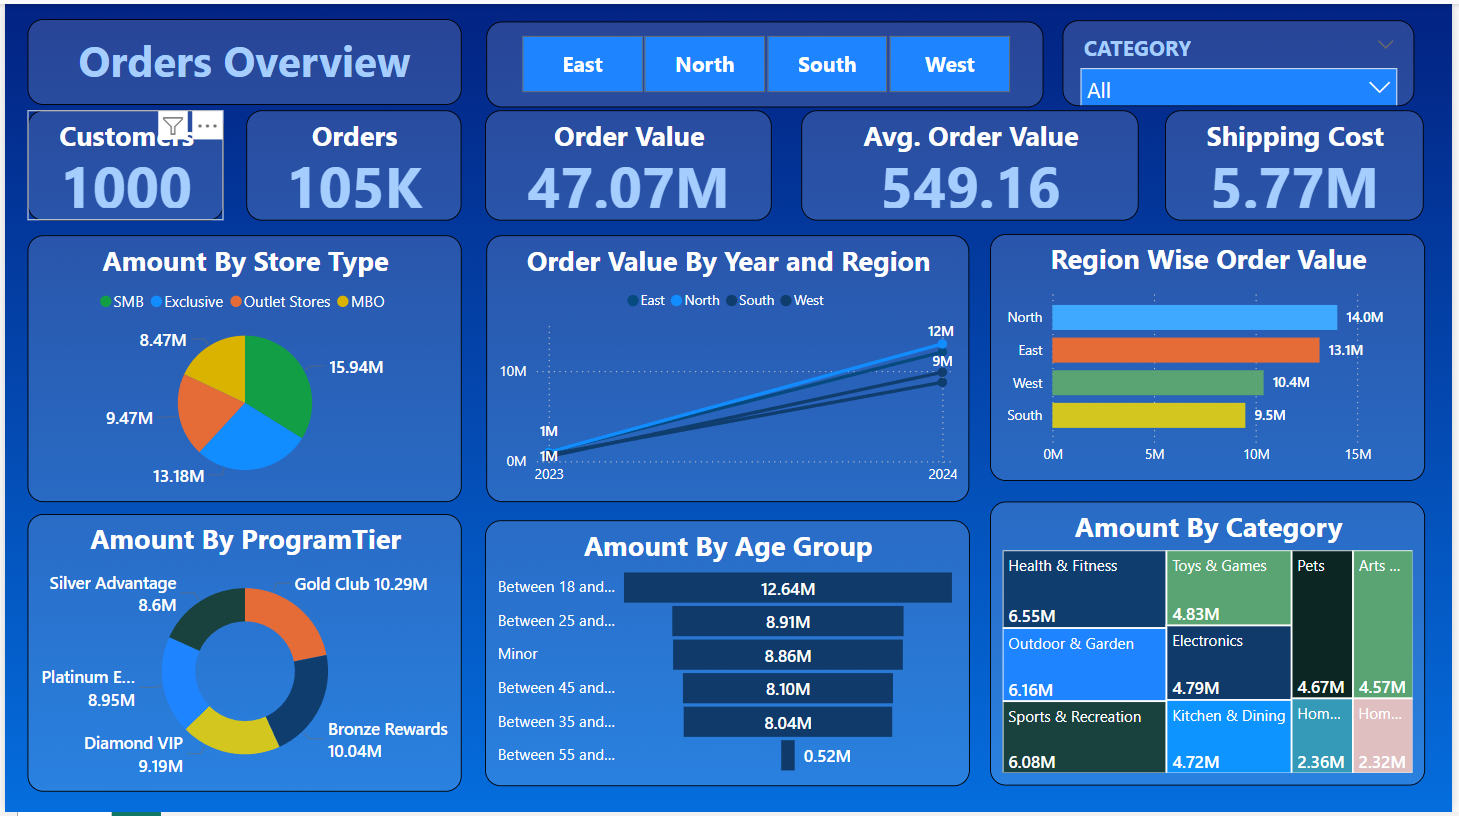

This screenshot's page, from the dashboard's own definition file:
{"tool":"powerbi","page":{"name":"Page 1","canvas":[1280,715],"ordinal":0},"visuals":[{"type":"textbox","box":[20,12.9,384.3,75.7],"z":0},{"type":"card","title":"Order Value","fields":{"Values":["FACTORDERS.Total Order Amount"]},"box":[425,93.8,253.8,97.5],"z":1000},{"type":"card","title":"Avg. Order Value","fields":{"Values":["FACTORDERS.Average order Value"]},"box":[703.8,93.8,298.8,97.5],"z":2000},{"type":"card","title":"Shipping Cost","fields":{"Values":["FACTORDERS.Total Shipping Cost"]},"box":[1026.2,93.8,228.8,97.5],"z":3000},{"type":"card","title":"Customers","fields":{"Values":["FACTORDERS.Total Customers"]},"box":[20,93.8,173.8,97.5],"z":4000},{"type":"card","title":"Orders ","fields":{"Values":["FACTORDERS.Total Orders"]},"box":[213.8,93.8,190,97.5],"z":5000},{"type":"pieChart","title":"Amount By Store Type","fields":{"Category":["DIMSTORE.STORETYPE"],"Y":["FACTORDERS.Total Order Amount"]},"box":[20,204.3,384.3,235.7],"z":6000},{"type":"lineChart","title":"Order Value By Year and Region","fields":{"Category":["DIMDATE.YEAR"],"Series":["DIMSTORE.REGION"],"Y":["FACTORDERS.Total Order Amount"]},"box":[425.7,204.3,427.1,235.7],"z":7000},{"type":"clusteredBarChart","title":"Region Wise Order Value","fields":{"Category":["DIMSTORE.REGION"],"Y":["FACTORDERS.Total Order Amount"]},"box":[871.2,203.8,385,218.8],"z":8000},{"type":"donutChart","title":"Amount By ProgramTier","fields":{"Y":["FACTORDERS.Total Order Amount"],"Category":["DIMLOYALTYPROGRAM.PROGRAMNAME"]},"box":[20,451.4,384.3,245.7],"z":9000},{"type":"funnel","title":"Amount By Age Group","fields":{"Category":["DIMCUSTOMER.Age Distribution"],"Y":["FACTORDERS.Total Order Amount"]},"box":[425,456.2,428.8,235],"z":10000},{"type":"treemap","title":"Amount By Category","fields":{"Values":["FACTORDERS.Total Order Amount"],"Group":["DIMPRODUCT.CATEGORY"]},"box":[871.2,440,385,251.2],"z":11000},{"type":"slicer","fields":{"Values":["DIMSTORE.REGION"]},"box":[425.7,15.7,492.9,75.7],"z":12000},{"type":"slicer","fields":{"Values":["DIMPRODUCT.CATEGORY"]},"box":[935.7,14.3,311.4,75.7],"z":13000}]}

Visuals, with their boxes in screenshot pixels (x1, y1, x2, y2), scaled from the page's 1280x715 canvas onto the 1459x816 screenshot:
textbox: x1=23, y1=15, x2=461, y2=101
"Order Value" card: x1=484, y1=107, x2=774, y2=218
"Avg. Order Value" card: x1=802, y1=107, x2=1143, y2=218
"Shipping Cost" card: x1=1170, y1=107, x2=1431, y2=218
"Customers" card: x1=23, y1=107, x2=221, y2=218
"Orders " card: x1=244, y1=107, x2=460, y2=218
"Amount By Store Type" pieChart: x1=23, y1=233, x2=461, y2=502
"Order Value By Year and Region" lineChart: x1=485, y1=233, x2=972, y2=502
"Region Wise Order Value" clusteredBarChart: x1=993, y1=233, x2=1432, y2=482
"Amount By ProgramTier" donutChart: x1=23, y1=515, x2=461, y2=796
"Amount By Age Group" funnel: x1=484, y1=521, x2=973, y2=789
"Amount By Category" treemap: x1=993, y1=502, x2=1432, y2=789
slicer - DIMSTORE.REGION: x1=485, y1=18, x2=1047, y2=104
slicer - DIMPRODUCT.CATEGORY: x1=1067, y1=16, x2=1421, y2=103
